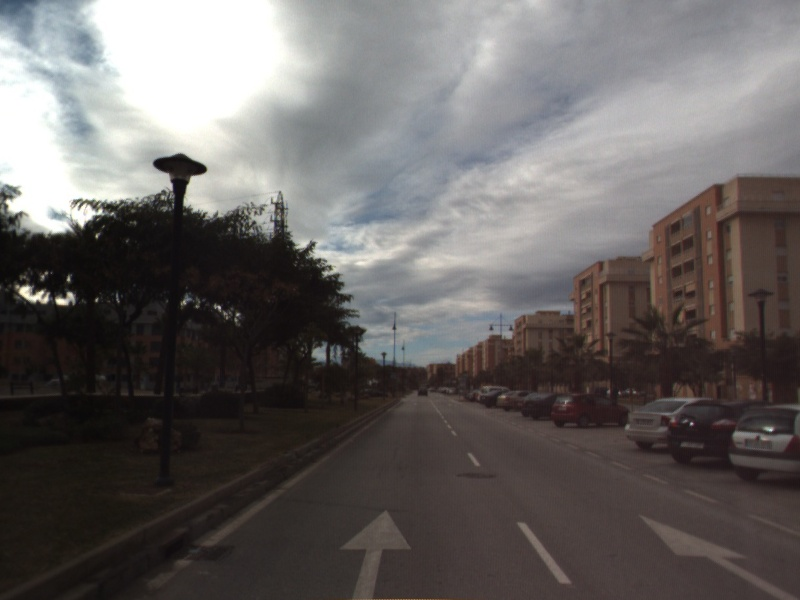STRAIGHT: (637, 512, 800, 600), (337, 507, 414, 600)
